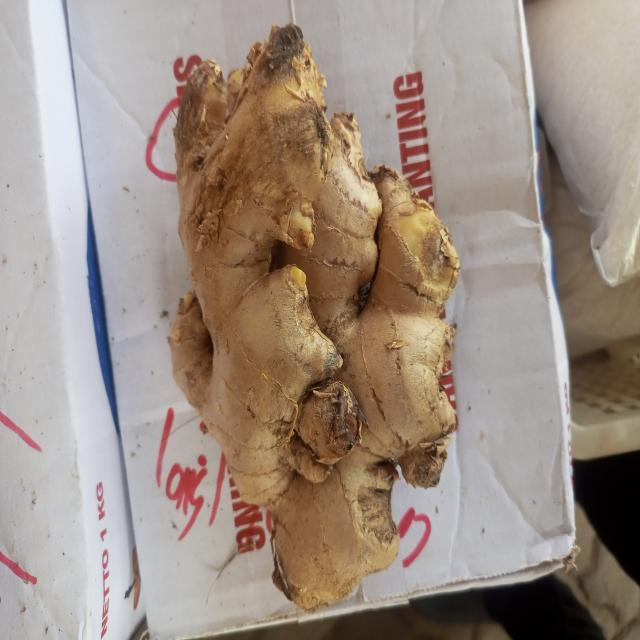ginger: (176, 44, 453, 602)
